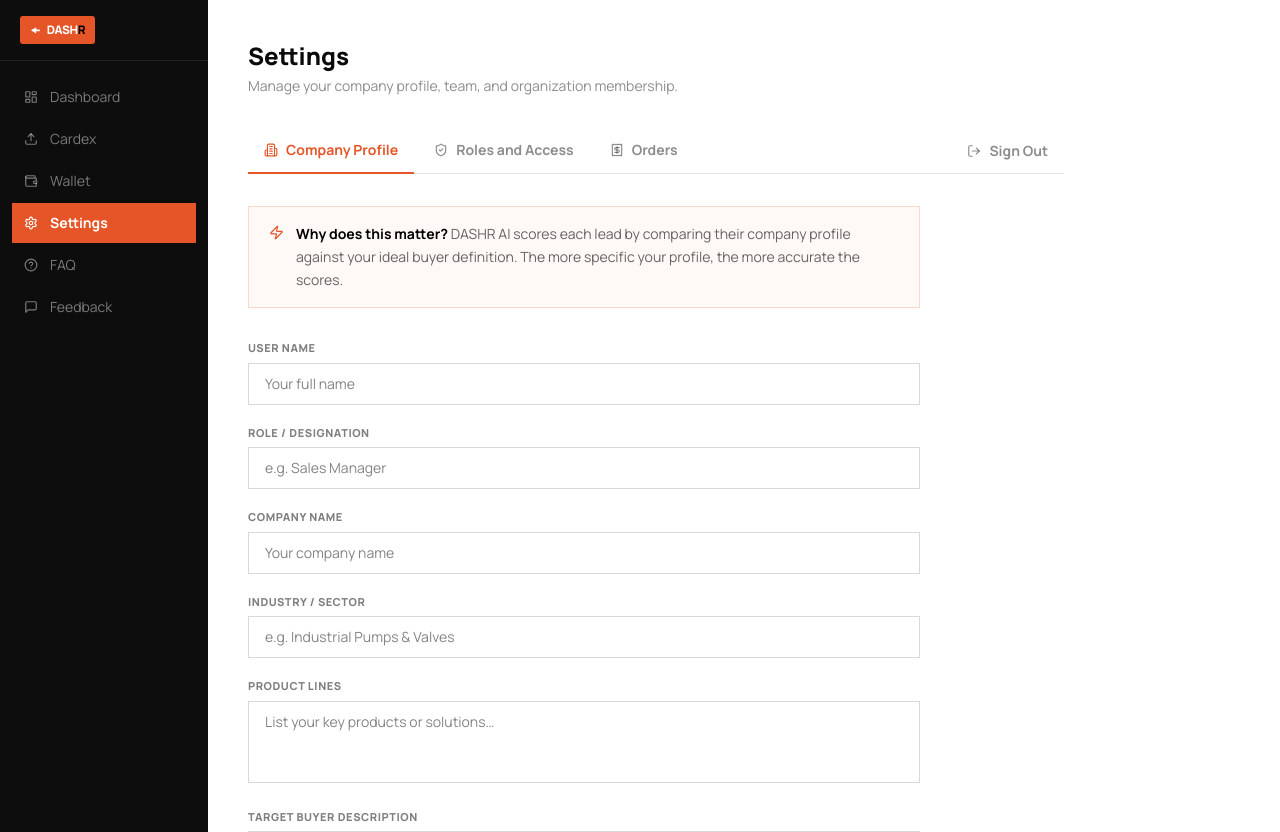
Test: /settings -- admin view › renders the invite form, pending invites, and members table
Click the button "Roles and Access": (504,151) x1=418 y1=128 x2=590 y2=174
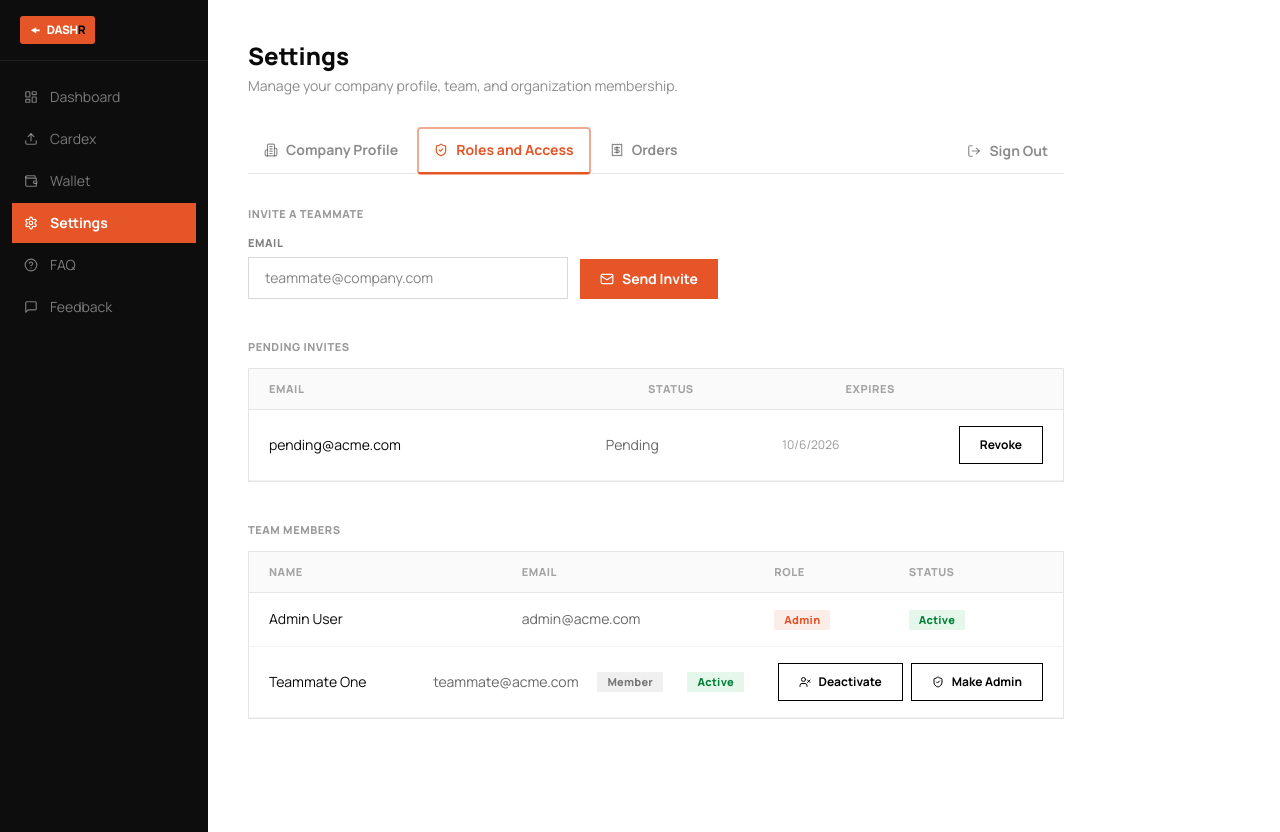
Expected: the heading "Invite a Teammate" is shown, x1=248 y1=206 x2=364 y2=221
Expected: the field with placeholder "teammate@company.com" is shown, x1=248 y1=257 x2=568 y2=299
Expected: the text "pending@acme.com" is shown, x1=269 y1=435 x2=401 y2=454
